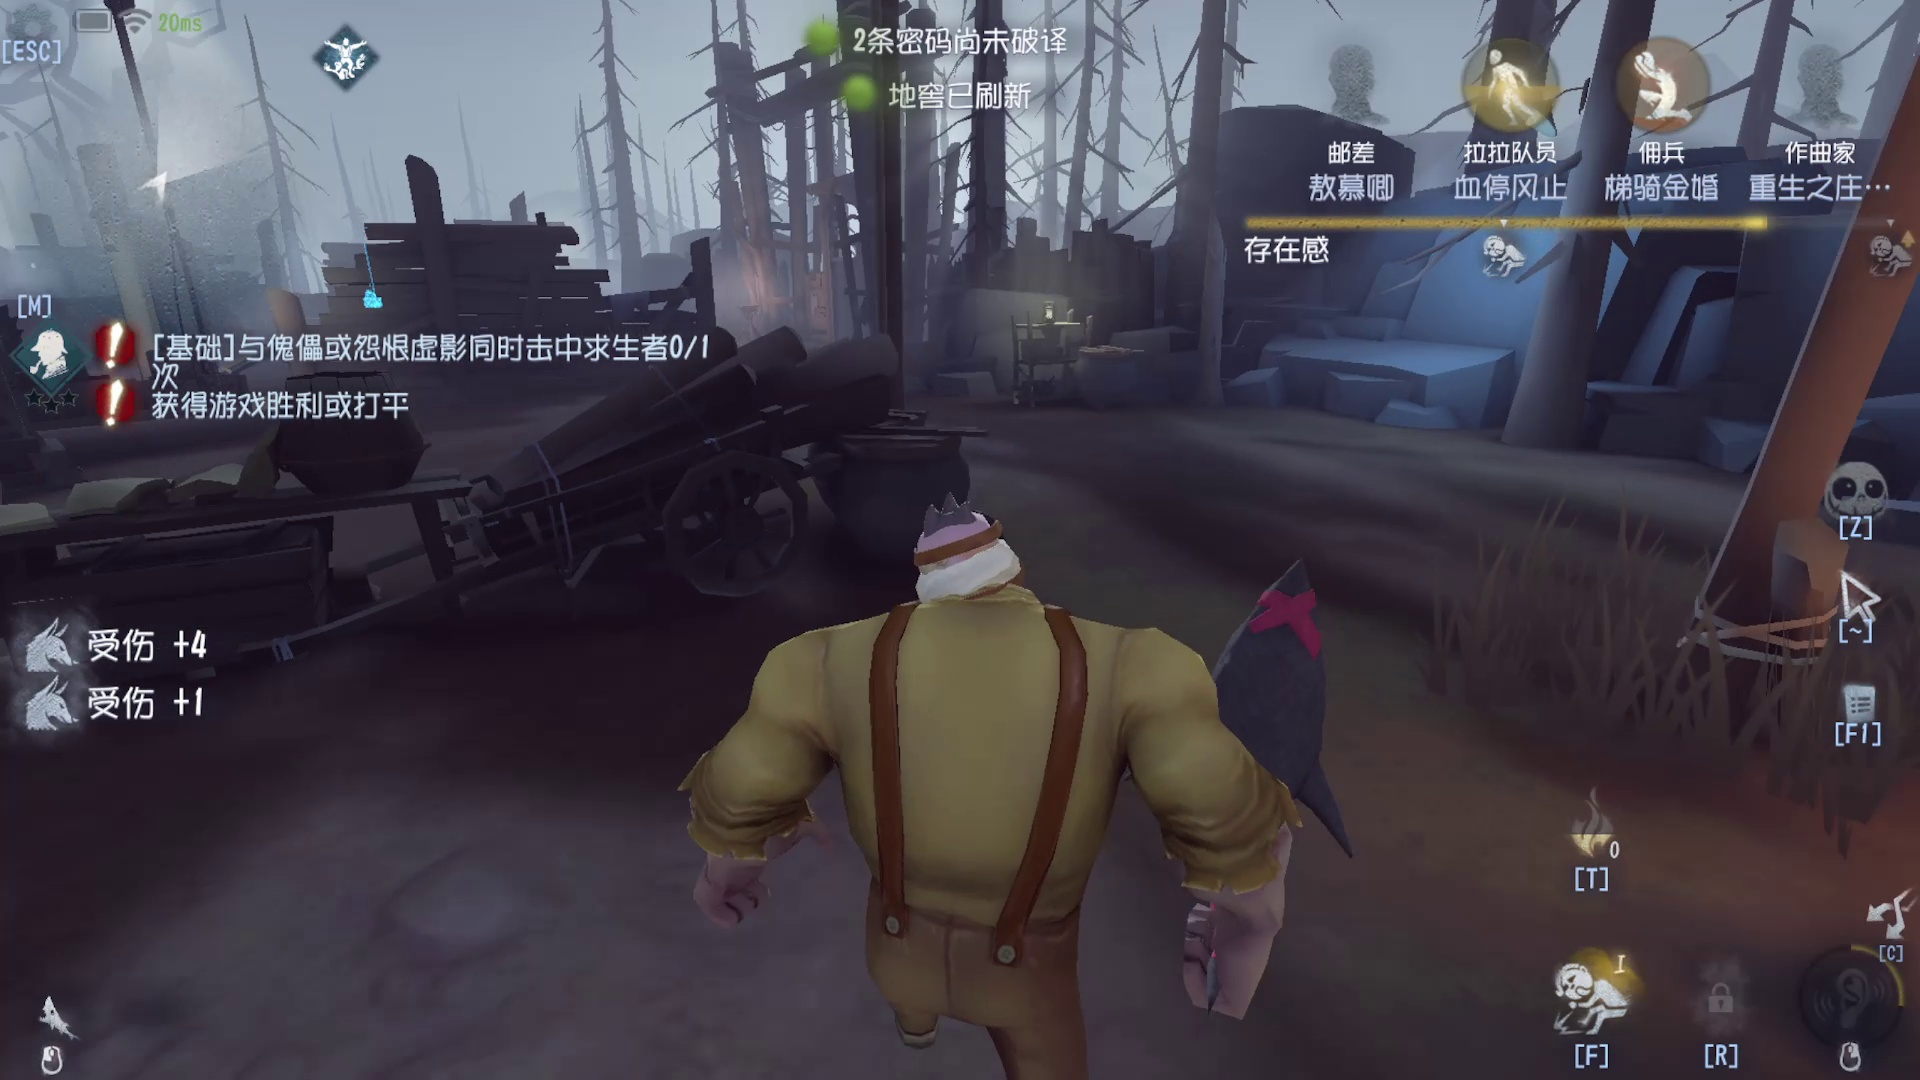密码机: (306, 152, 425, 334)
